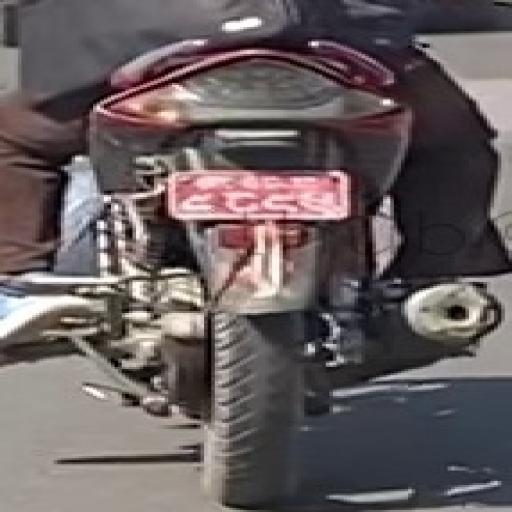license_plate: (166, 166, 357, 224)
